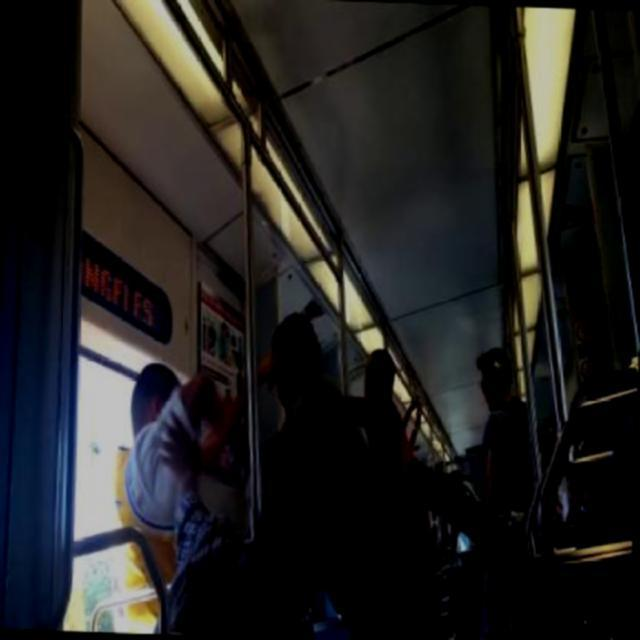fight: (114, 303, 432, 568)
non-fight: (468, 346, 550, 514)
